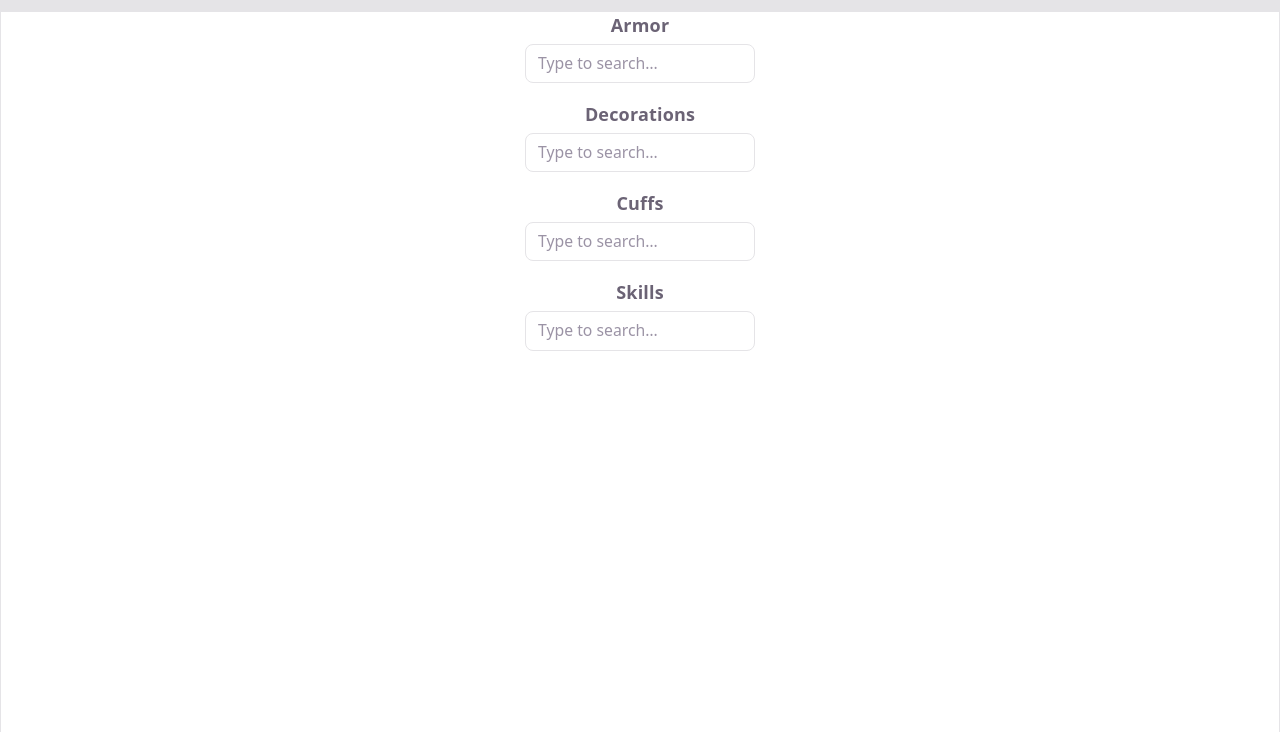
Test case: EquipmentExclusionPicker › matches an armor piece by one of its granted skill's tier labels (docs/feedback.md Round 2 #8)
Type "attack expert" into the field named "Search armor pieces to exclude" at point(640, 63), box [525,44,755,83]
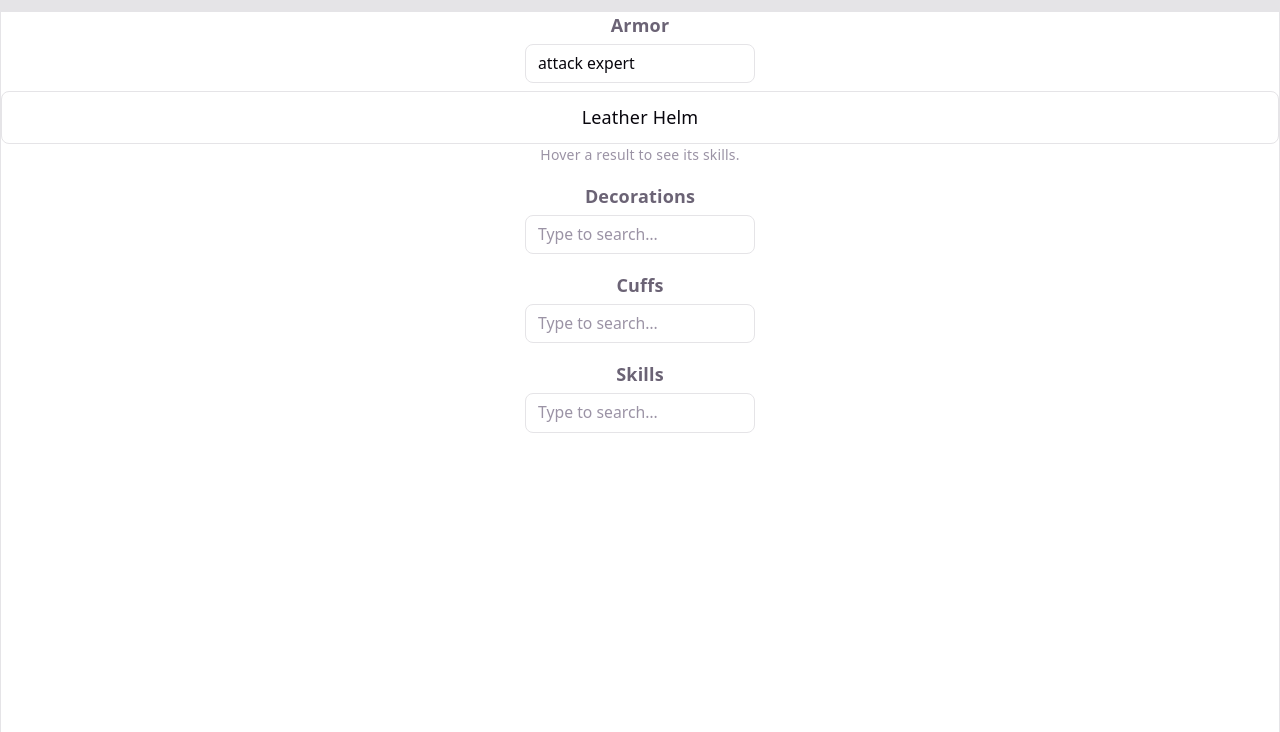
Expected: the option "Leather Helm" is shown, [582,105,698,129]
